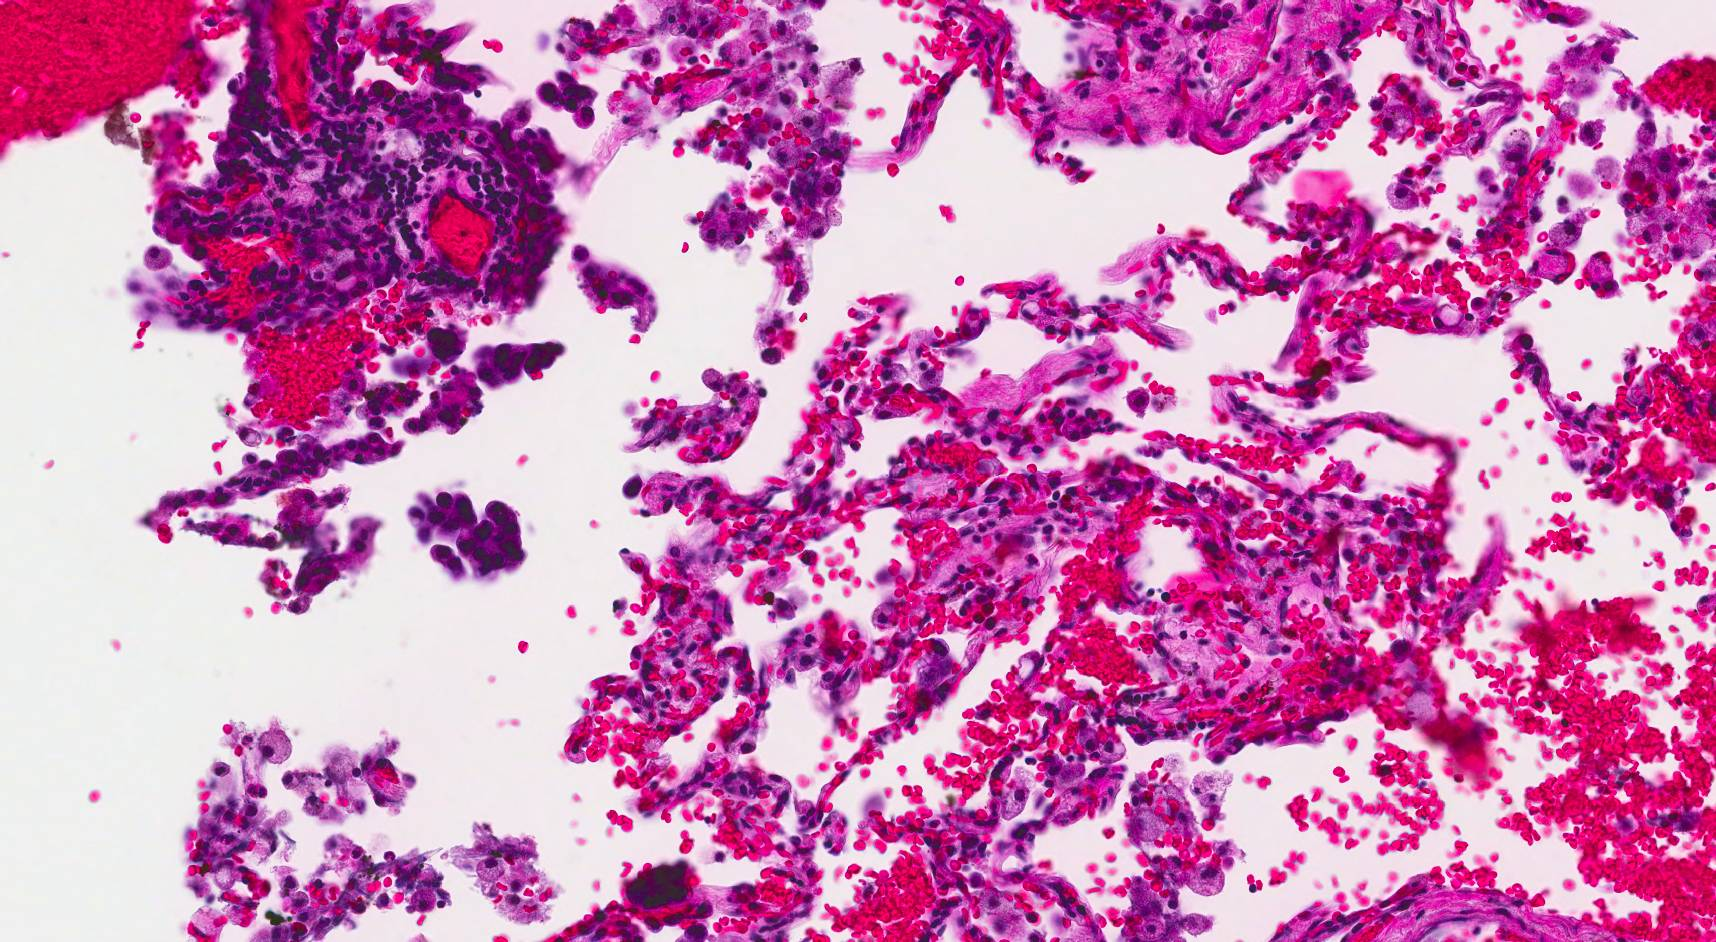stas: (410, 485, 531, 581), (472, 340, 567, 390), (534, 68, 598, 132)
